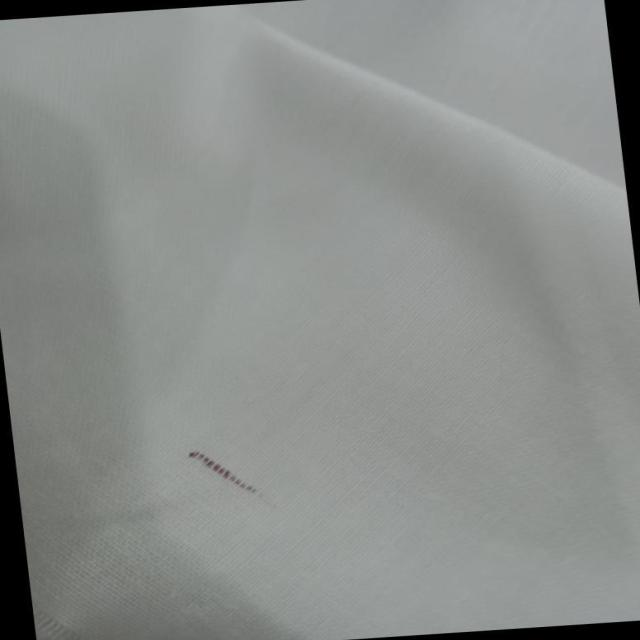contamination: (166, 435, 270, 501)
